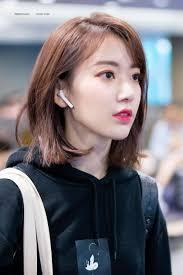earphone: (56, 88, 75, 112)
